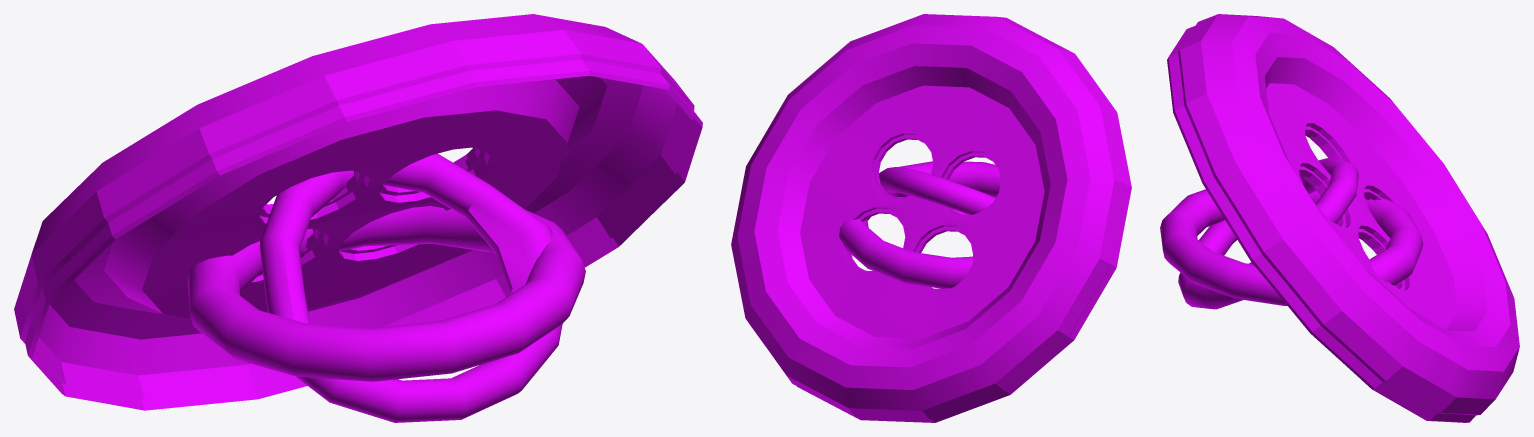
Rendered from Shield_LP.fbx.
3 renders of one model, left to right at view 1: azimuth 30°, elevation 25°; view 2: azimuth 150°, elevation 25°; view 3: azimuth 270°, elevation 25°, orthographic. The views are drawn at different scales.
Visible parts, largest first — view 1: Shield_Button_LP, Shield_fil1_LP, Shield_fil2_LP; view 2: Shield_Button_LP, Shield_fil1_LP, Shield_fil2_LP; view 3: Shield_Button_LP, Shield_fil1_LP, Shield_fil2_LP.
Part boxes in pixels (box(x1,y1,x2,y2)): Shield_Button_LP: box(14, 14, 702, 410); Shield_fil1_LP: box(187, 206, 585, 381); Shield_fil2_LP: box(259, 153, 562, 422); Shield_Button_LP: box(731, 14, 1131, 422); Shield_fil1_LP: box(839, 161, 1000, 288); Shield_fil2_LP: box(878, 167, 995, 214); Shield_Button_LP: box(1167, 14, 1519, 422); Shield_fil1_LP: box(1160, 189, 1423, 305); Shield_fil2_LP: box(1178, 157, 1358, 309).
Bounding box in the file's own units: 1.2 × 0.9576 × 0.8938.
